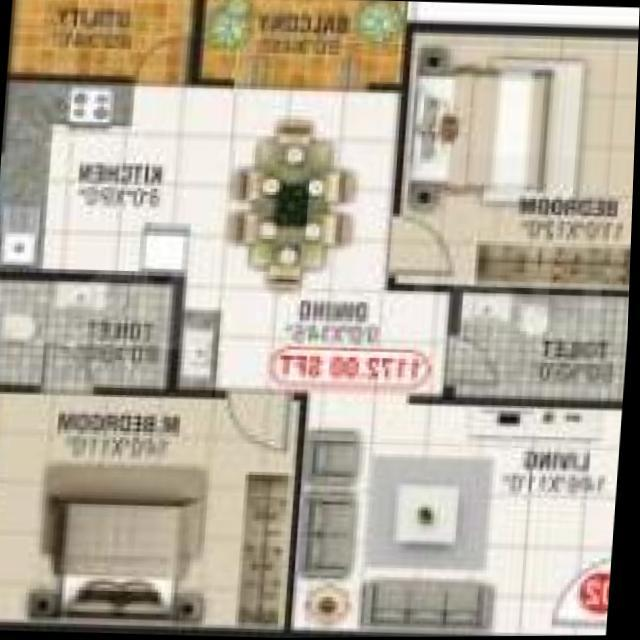Balcony-Sitout: (200, 0, 406, 85)
Bedroom: (397, 32, 639, 290)
Bedroom with Toilet: (0, 274, 305, 634)
Dining: (215, 109, 373, 299)
Enterance-Foyer: (546, 549, 616, 635)
Kitchen: (0, 83, 201, 275)
Living: (297, 402, 625, 637)
Toilet: (0, 279, 174, 387), (456, 293, 631, 400)
Utility: (8, 0, 191, 82)
